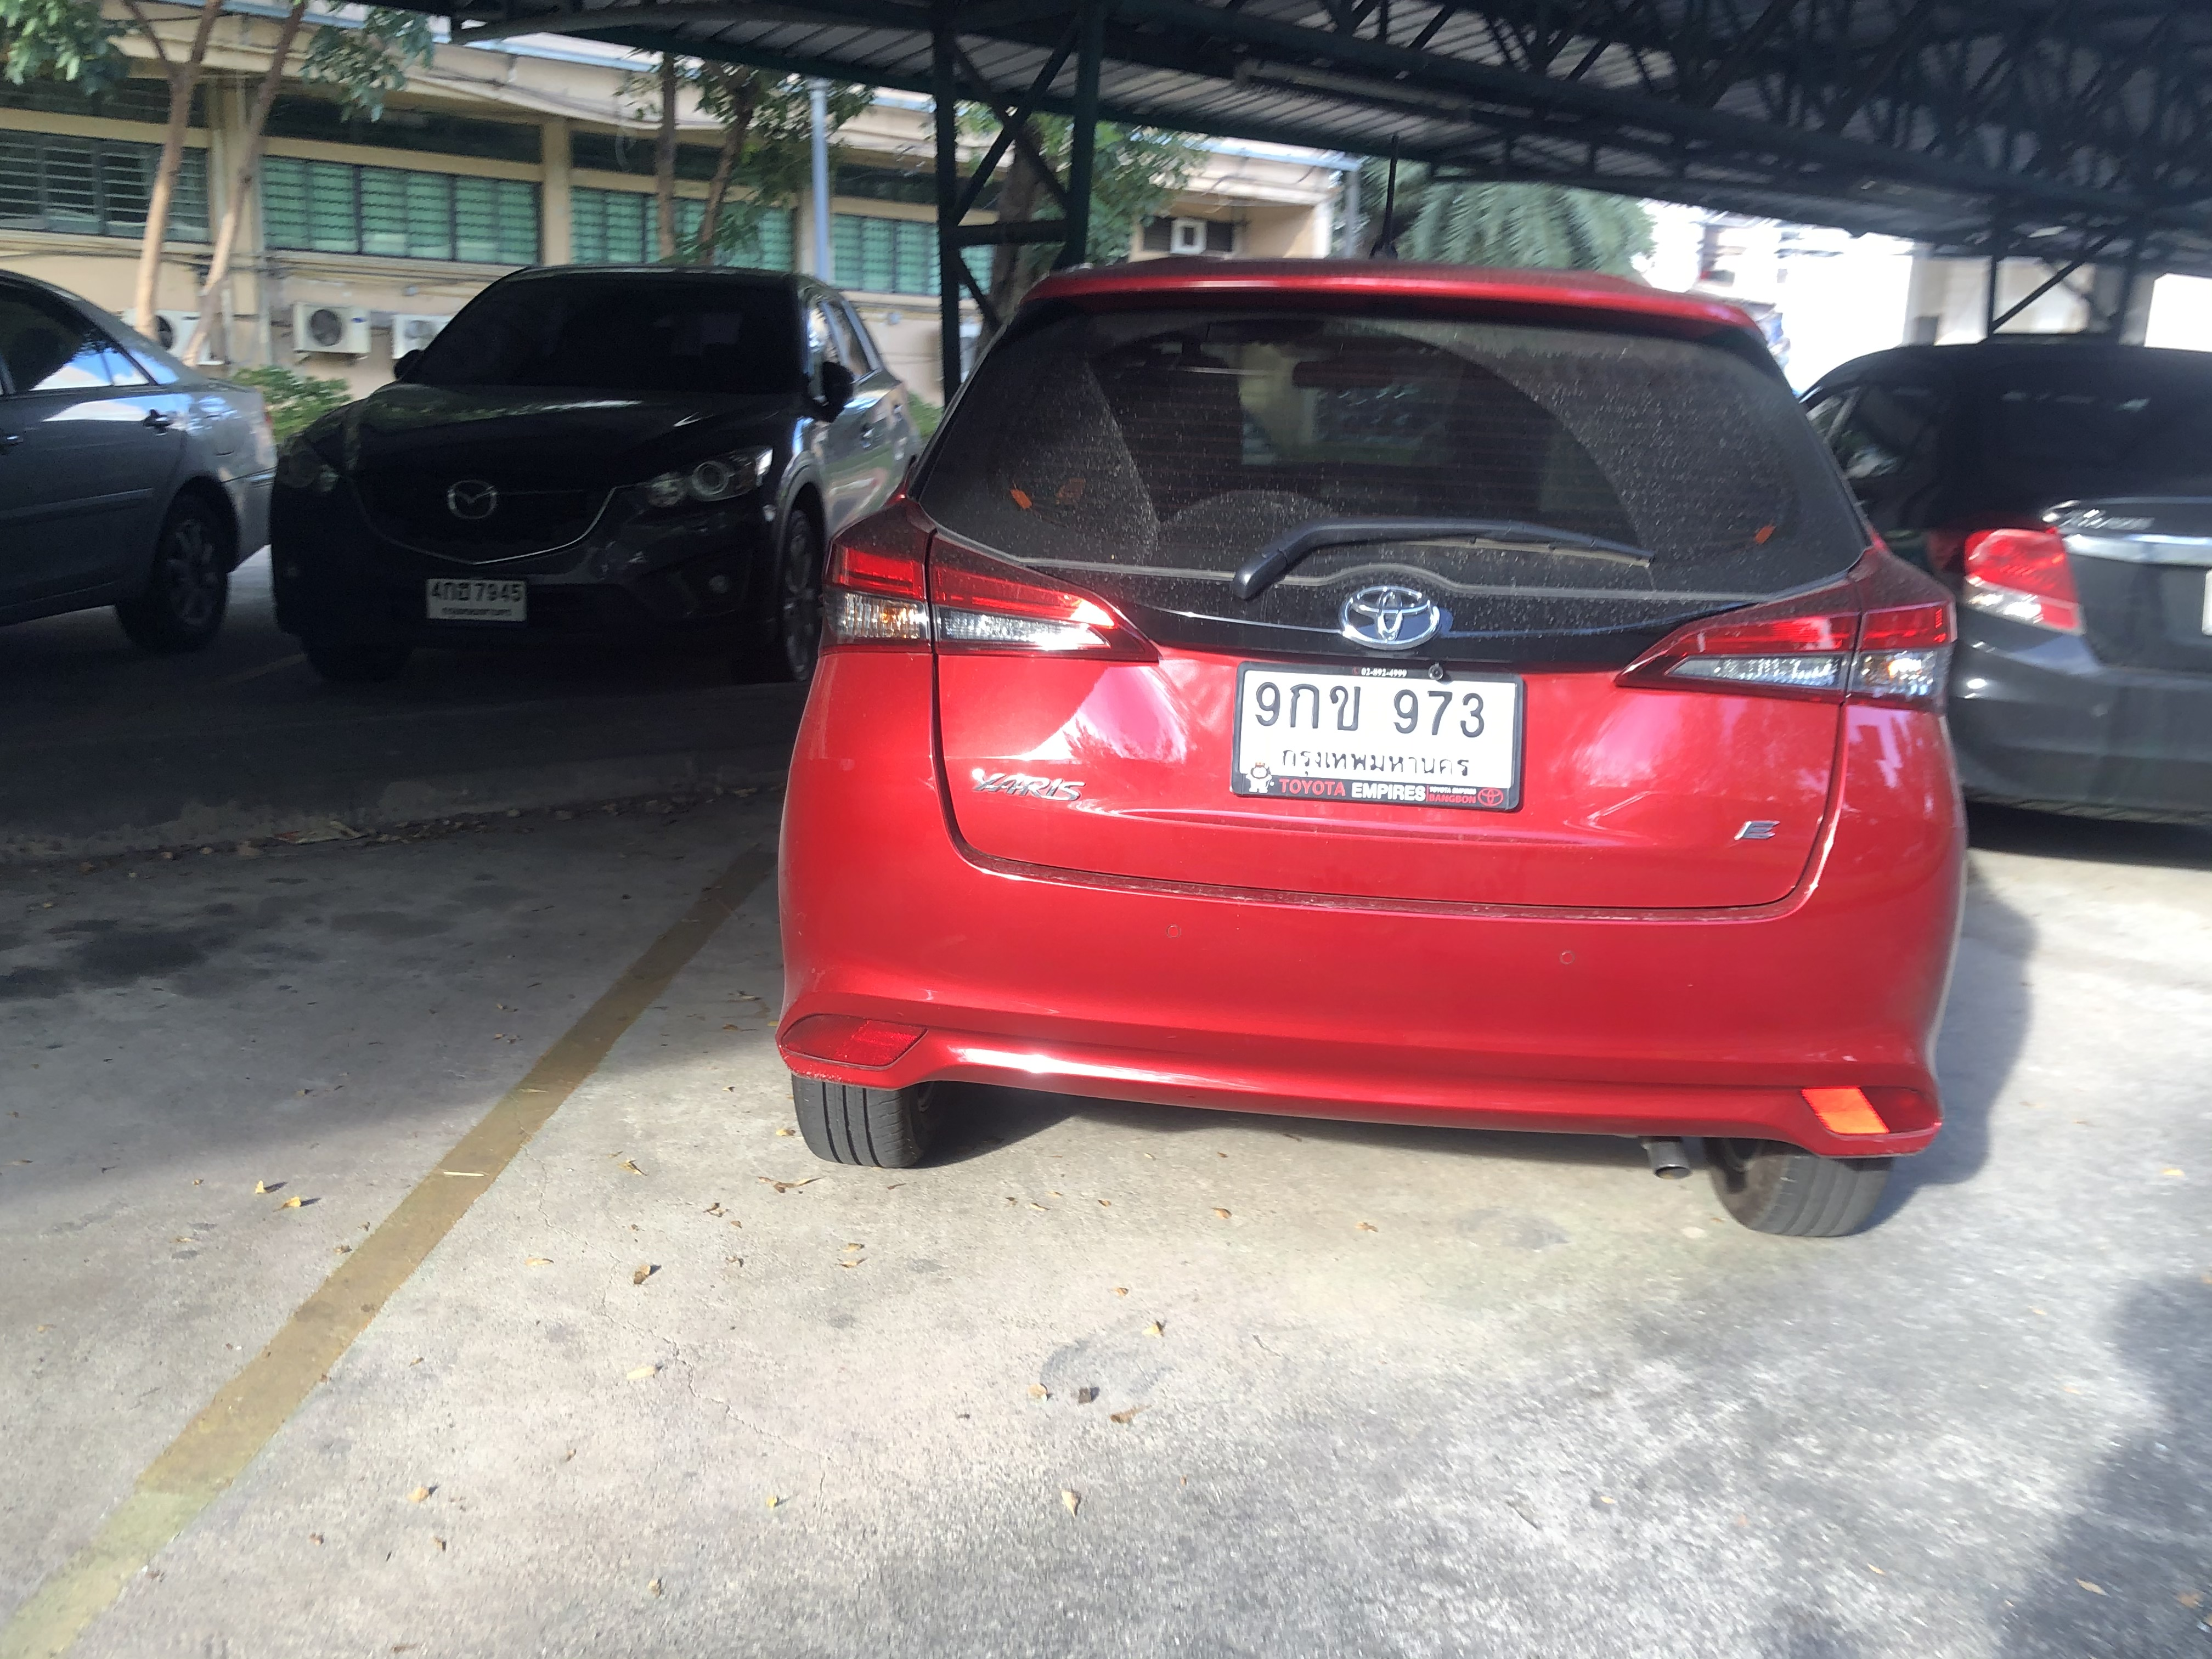in: (1245, 674, 1512, 788)
out: (1237, 653, 1524, 821)
